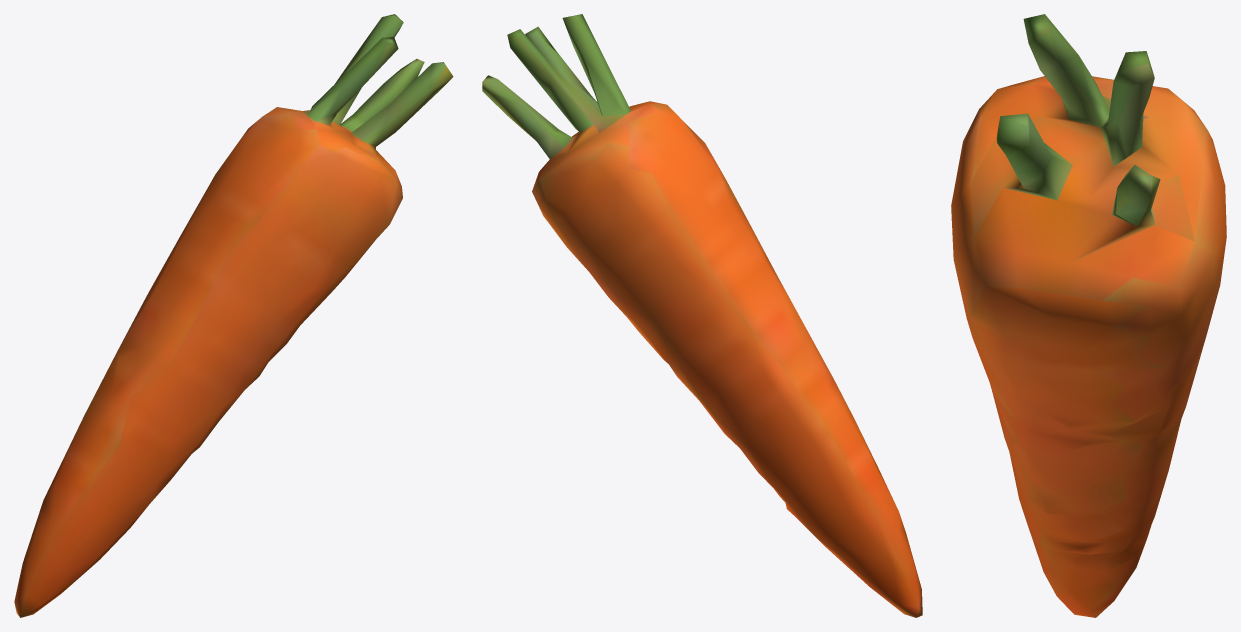
The model's file is cenoura.glb.
The picture shows the model from 3 angles, left to right: view 1: azimuth 30°, elevation 25°; view 2: azimuth 150°, elevation 25°; view 3: azimuth 270°, elevation 25°; orthographic projection. The views are drawn at different scales.
Parts seen in each view (by area): view 1: cenoura; view 2: cenoura; view 3: cenoura.
Boxes of the visible parts, bbox=[...] form: cenoura: bbox=[14, 14, 453, 617]; cenoura: bbox=[482, 14, 922, 617]; cenoura: bbox=[951, 14, 1226, 617].
Size of the model in its own units: 0.1299 by 0.1487 by 0.0411.
Materials: 1 (1 with a texture image).
